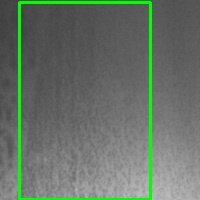pitted_surface: (19, 2, 150, 199)
